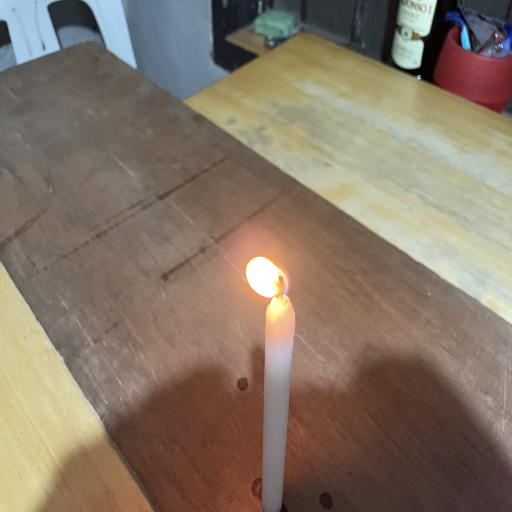fire: (237, 267, 295, 321)
